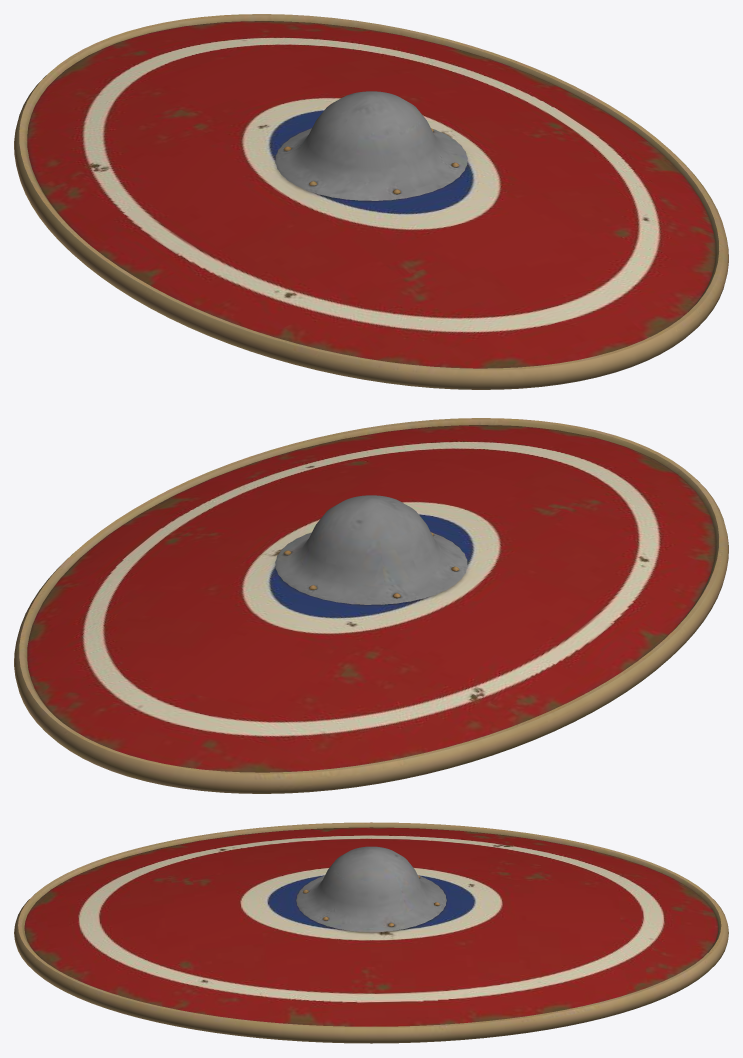
File: shield_oval.glb
3 renders of one model, top to bottom at view 1: azimuth 30°, elevation 25°; view 2: azimuth 150°, elevation 25°; view 3: azimuth 270°, elevation 25°, orthographic. The views are drawn at different scales.
Parts seen in each view (by area): view 1: shield_oval; view 2: shield_oval; view 3: shield_oval.
Boxes of the visible parts, x1,y1,x2,y2 form: shield_oval: (14, 14, 728, 389); shield_oval: (14, 418, 728, 793); shield_oval: (14, 822, 728, 1043).
Bounding box in the file's own units: 0.676 × 0.1363 × 0.976.
1 material, 1 textured.
